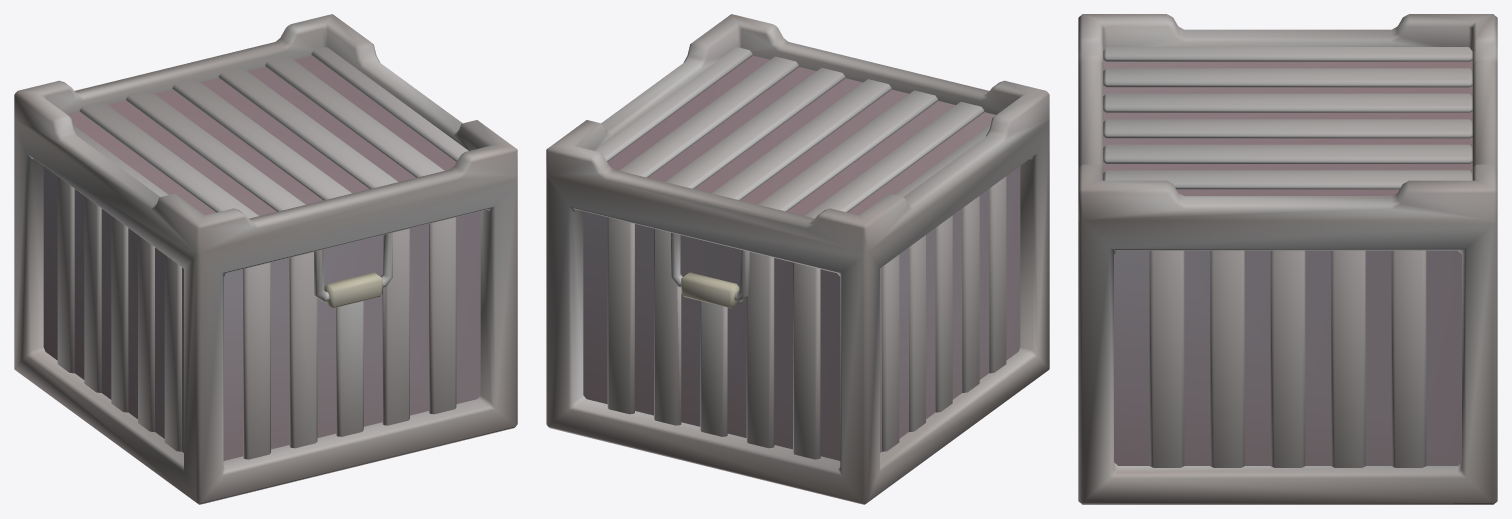
Rendered from steel-chest.glb.
The picture shows the model from 3 angles, left to right: view 1: azimuth 30°, elevation 25°; view 2: azimuth 150°, elevation 25°; view 3: azimuth 270°, elevation 25°; orthographic projection. The views are drawn at different scales.
Visible parts, largest first — view 1: modelo; view 2: modelo; view 3: modelo.
Part boxes in pixels (box(x1,y1,x2,y2)): modelo: box(14, 14, 517, 504); modelo: box(546, 14, 1049, 504); modelo: box(1078, 14, 1497, 504).
Size of the model in its own units: 2 by 1.67 by 2.
